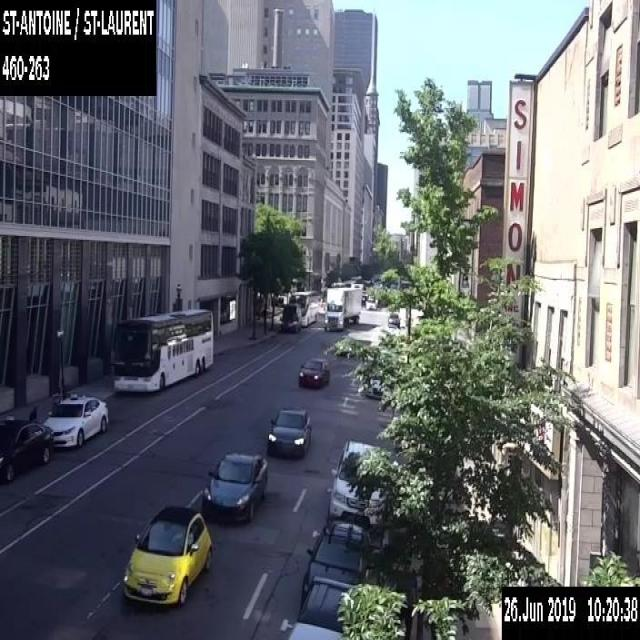bus: (112, 305, 213, 395), (288, 288, 318, 326)
pedestrian: (27, 403, 38, 420)
vehicle: (121, 504, 212, 603), (300, 520, 370, 604), (328, 437, 390, 529), (284, 573, 355, 639), (202, 450, 268, 520), (42, 392, 108, 448), (0, 419, 53, 484), (267, 404, 311, 457), (324, 286, 361, 331), (297, 356, 330, 387), (280, 302, 300, 330), (364, 376, 384, 400), (364, 296, 378, 310), (387, 312, 400, 327), (288, 636, 289, 639)
